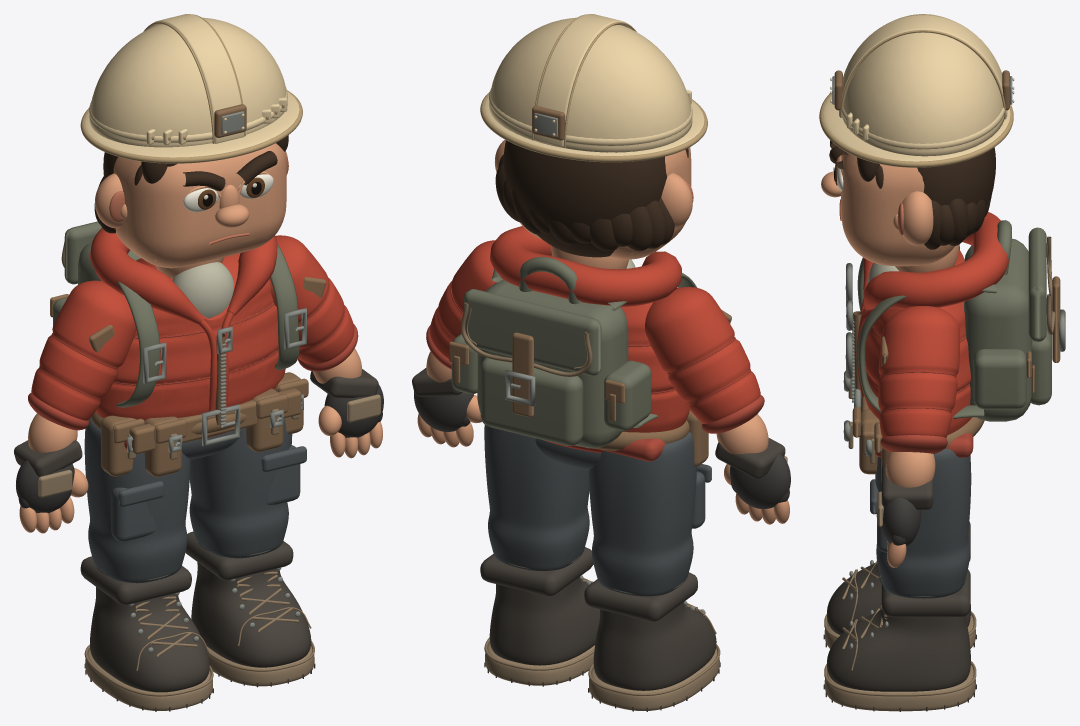
The model's file is bp_residentcoral_v2.glb.
3 views of the same model, side by side, from view 1: azimuth 30°, elevation 25°; view 2: azimuth 150°, elevation 25°; view 3: azimuth 270°, elevation 25° (orthographic). The views are drawn at different scales.
Parts seen in each view (by area): view 1: Head_Mesh, Torso_Mesh, Leg_R_Mesh, Leg_L_Mesh, Arm_R_Mesh, Arm_L_Mesh; view 2: Head_Mesh, Torso_Mesh, Leg_R_Mesh, Leg_L_Mesh, Arm_R_Mesh, Arm_L_Mesh; view 3: Head_Mesh, Torso_Mesh, Leg_L_Mesh, Arm_L_Mesh, Leg_R_Mesh.
Part boxes in pixels (x1=…): Head_Mesh: x1=28, y1=14, x2=361, y2=653; Torso_Mesh: x1=50, y1=221, x2=308, y2=693; Leg_R_Mesh: x1=80, y1=417, x2=242, y2=711; Leg_L_Mesh: x1=185, y1=418, x2=315, y2=687; Arm_R_Mesh: x1=14, y1=280, x2=136, y2=533; Arm_L_Mesh: x1=269, y1=235, x2=383, y2=458; Head_Mesh: x1=426, y1=14, x2=768, y2=615; Torso_Mesh: x1=449, y1=226, x2=711, y2=692; Leg_R_Mesh: x1=535, y1=432, x2=720, y2=711; Leg_L_Mesh: x1=480, y1=425, x2=599, y2=686; Arm_R_Mesh: x1=645, y1=286, x2=790, y2=524; Arm_L_Mesh: x1=412, y1=240, x2=581, y2=447; Head_Mesh: x1=819, y1=14, x2=1014, y2=649; Torso_Mesh: x1=843, y1=212, x2=1065, y2=514; Leg_L_Mesh: x1=823, y1=448, x2=976, y2=711; Arm_L_Mesh: x1=877, y1=220, x2=1011, y2=567; Leg_R_Mesh: x1=823, y1=521, x2=976, y2=648.
Bounding box in the file's own units: 3.52 × 5.91 × 2.04.
